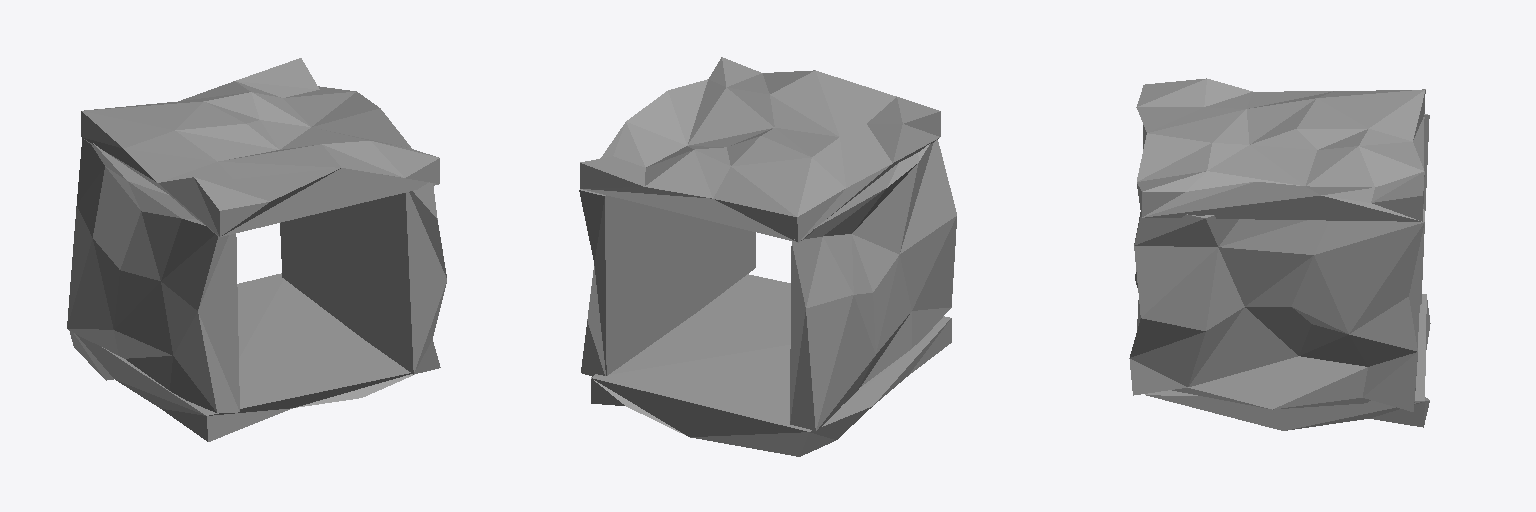
The model's file is cave_rock.obj.
3 views of the same model, side by side, from view 1: azimuth 30°, elevation 25°; view 2: azimuth 150°, elevation 25°; view 3: azimuth 270°, elevation 25° (orthographic).
Bounding box in the file's own units: 2.4 × 2.43 × 2.5.